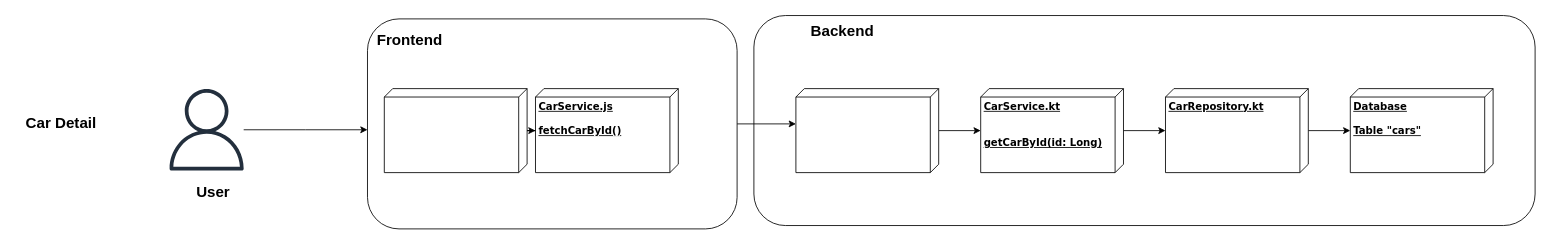
Some shapes in this 1550 by 244 pixel diagram are drawn without their labels. Each missing label, with the box of its shape:
CarController.kt getCarById(id: Long): (795, 88, 939, 173)
CarPage.jsx CarPage(): (383, 88, 527, 173)
